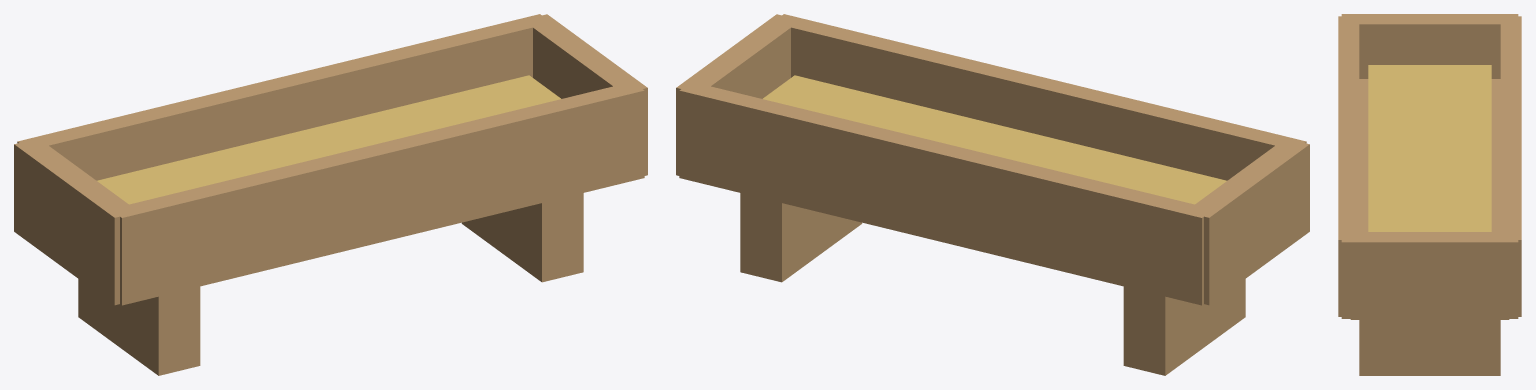
File: feed-trough.glb
The picture shows the model from 3 angles, left to right: view 1: azimuth 30°, elevation 25°; view 2: azimuth 150°, elevation 25°; view 3: azimuth 270°, elevation 25°; orthographic projection. The views are drawn at different scales.
Parts seen in each view (by area): view 1: feed-trough; view 2: feed-trough; view 3: feed-trough.
Boxes of the visible parts, x1,y1,x2,y2 form: feed-trough: (14, 14, 647, 375); feed-trough: (676, 14, 1309, 375); feed-trough: (1338, 14, 1521, 375).
Size of the model in its own units: 1.53 by 0.49 by 0.52.
